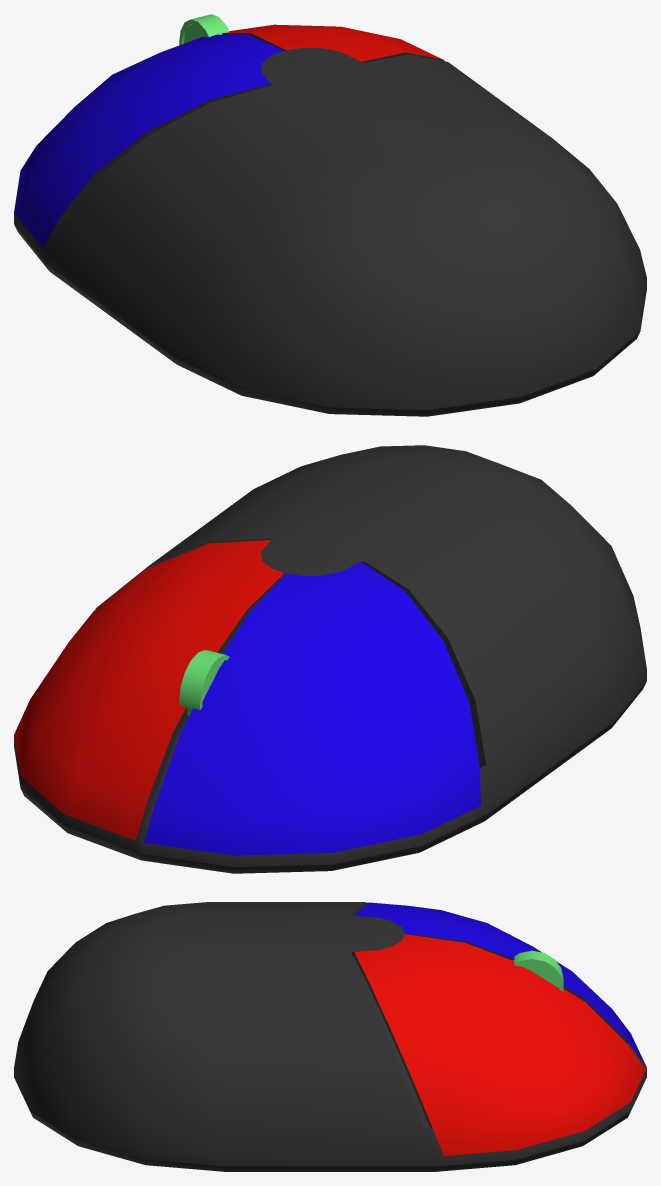
File: PCMouse.fbx
The picture shows the model from 3 angles, top to bottom: view 1: azimuth 30°, elevation 25°; view 2: azimuth 150°, elevation 25°; view 3: azimuth 270°, elevation 25°; orthographic projection. The views are drawn at different scales.
Parts seen in each view (by area): view 1: Body, Scrollwheel; view 2: Body, Scrollwheel; view 3: Body, Scrollwheel.
Boxes of the visible parts, bbox=[...] form: Body: bbox=[14, 24, 646, 416]; Scrollwheel: bbox=[179, 14, 229, 45]; Body: bbox=[14, 445, 646, 873]; Scrollwheel: bbox=[179, 650, 229, 715]; Body: bbox=[14, 902, 646, 1171]; Scrollwheel: bbox=[513, 950, 563, 991].
Size of the model in its own units: 8 by 3.2 by 12.
